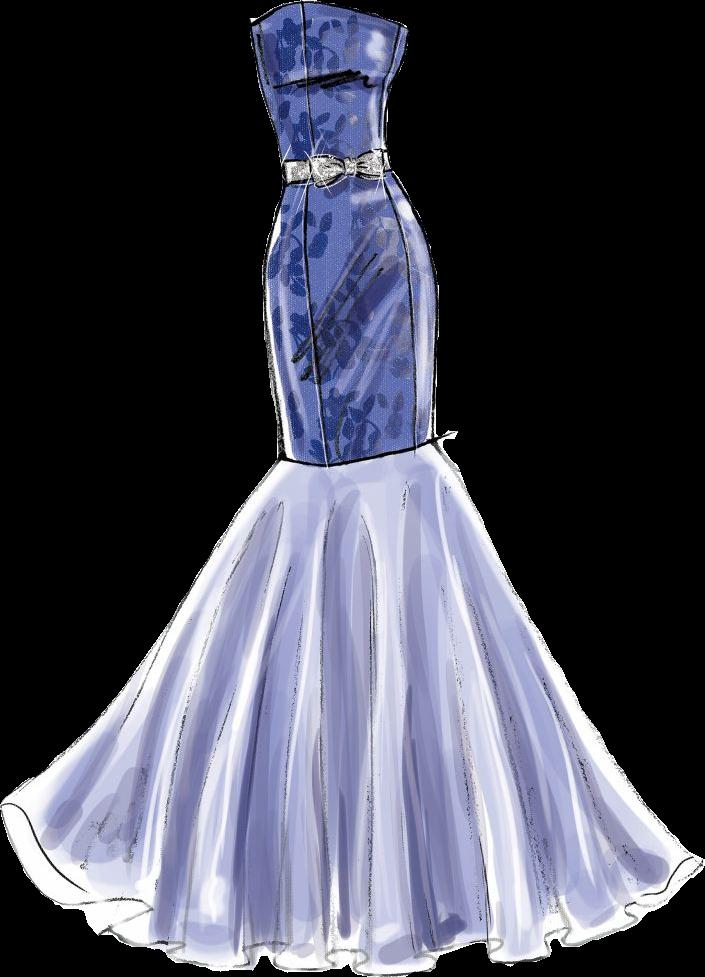Bodice: (250, 1, 408, 183)
Hemline: (0, 807, 704, 976)
Neckline: (249, 0, 406, 33)
Skirt: (1, 174, 704, 974)
Waistline: (275, 435, 437, 470), (278, 166, 393, 188)
